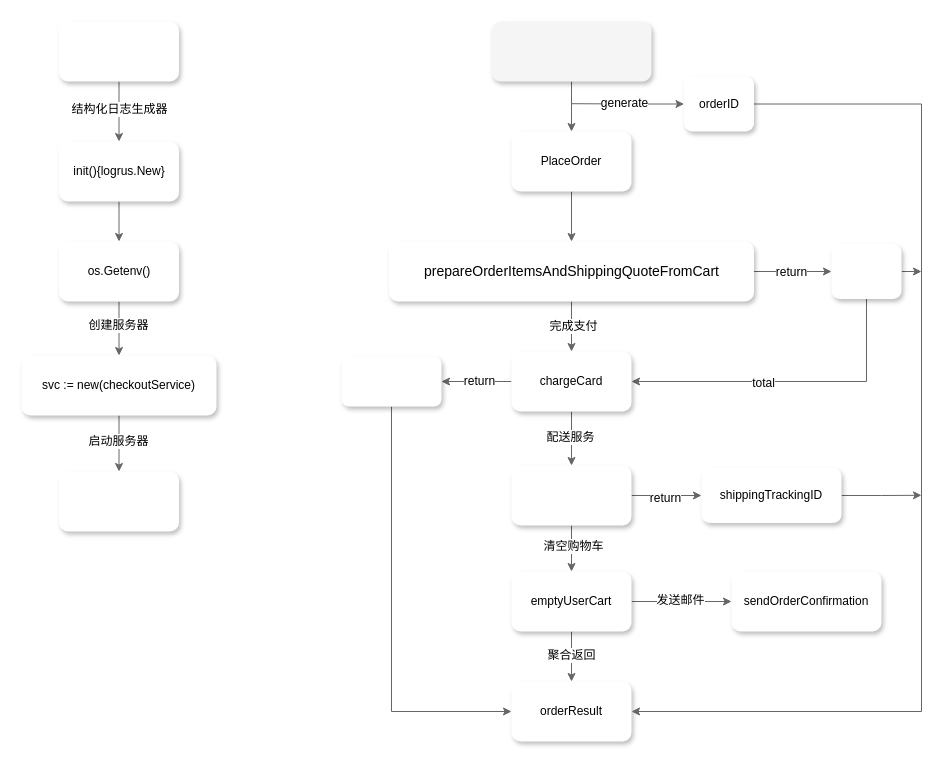
Image size: 947x765. Some labels were removed from this diagram. The centre of each missing label's shape, as x and y in pixels:
*pb.PlaceOrderRequest: (x=572, y=52)
main.go: (x=119, y=52)
net.Listen("tcp"): (x=119, y=502)
orderPrep: (x=867, y=273)
shipOrder: (x=572, y=496)
transaction_ID: (x=392, y=382)
